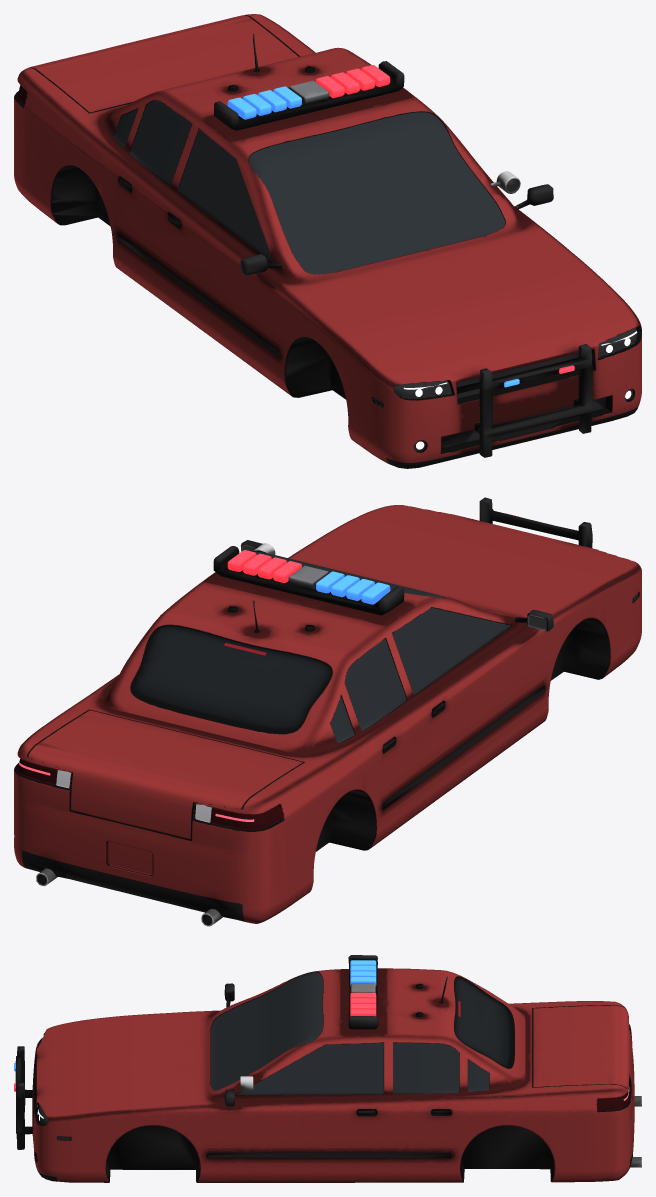
File: marshal.glb
The picture shows the model from 3 angles, top to bottom: view 1: azimuth 30°, elevation 25°; view 2: azimuth 150°, elevation 25°; view 3: azimuth 270°, elevation 25°; orthographic projection. The views are drawn at different scales.
Parts seen in each view (by area): view 1: paint, window, trim, head, beaconB, beaconR, grille; view 2: paint, trim, glass, window, tail, beaconB, beaconR, chrome, head; view 3: paint, window, trim, glass, beaconR, beaconB, head, chrome, tail.
Part boxes in pixels (x1,y1,x2,y2): paint: [14, 14, 641, 463]; window: [113, 101, 505, 274]; trim: [14, 15, 641, 468]; head: [288, 80, 637, 451]; beaconB: [227, 86, 519, 387]; beaconR: [316, 65, 574, 373]; grille: [441, 353, 605, 447]; paint: [14, 505, 641, 923]; trim: [14, 497, 639, 922]; glass: [130, 624, 332, 734]; window: [253, 551, 510, 743]; tail: [18, 758, 284, 830]; beaconB: [316, 571, 390, 604]; beaconR: [227, 513, 518, 582]; chrome: [36, 543, 546, 926]; head: [288, 565, 638, 601]; paint: [32, 968, 634, 1182]; window: [211, 972, 489, 1094]; trim: [15, 955, 633, 1182]; glass: [454, 976, 514, 1068]; beaconR: [14, 992, 376, 1091]; beaconB: [14, 960, 376, 1071]; head: [38, 983, 375, 1140]; chrome: [234, 985, 641, 1167]; tail: [596, 1091, 628, 1110].
Size of what is drawn, in the model's own units: 2.25 by 1.48 by 5.23.
